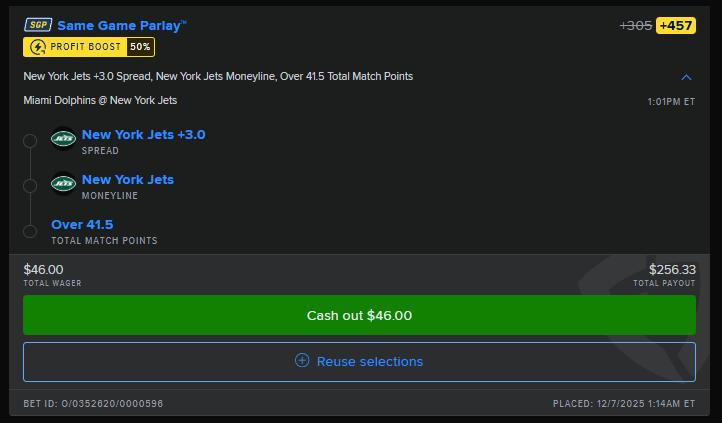game: (23, 93, 179, 107)
odds: (656, 17, 695, 33)
payout: (647, 262, 699, 277)
wager: (22, 262, 66, 277)
